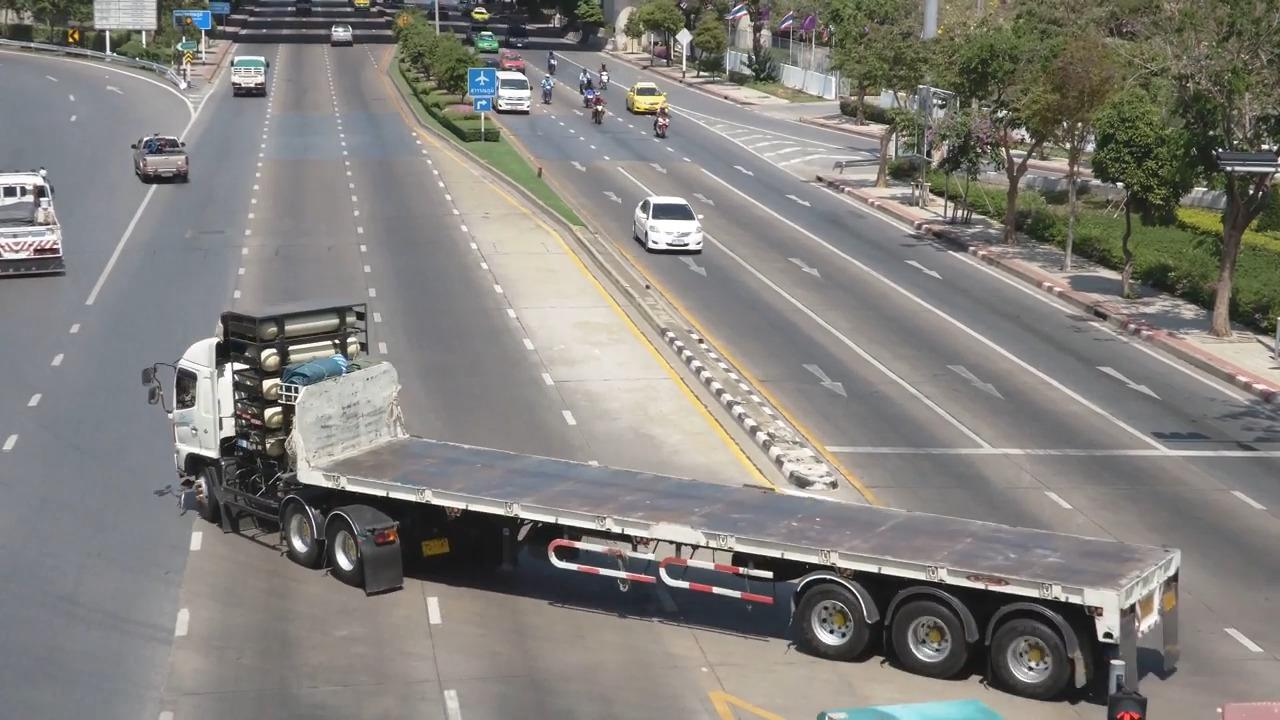CAR: (0, 152, 96, 291), (620, 181, 714, 265), (115, 118, 197, 196), (214, 49, 279, 119), (315, 17, 373, 61), (621, 78, 673, 122), (492, 64, 532, 114)
HGV_BUS: (132, 287, 1219, 702)
MOTOR: (584, 92, 613, 135), (594, 60, 617, 93), (526, 60, 544, 101)
